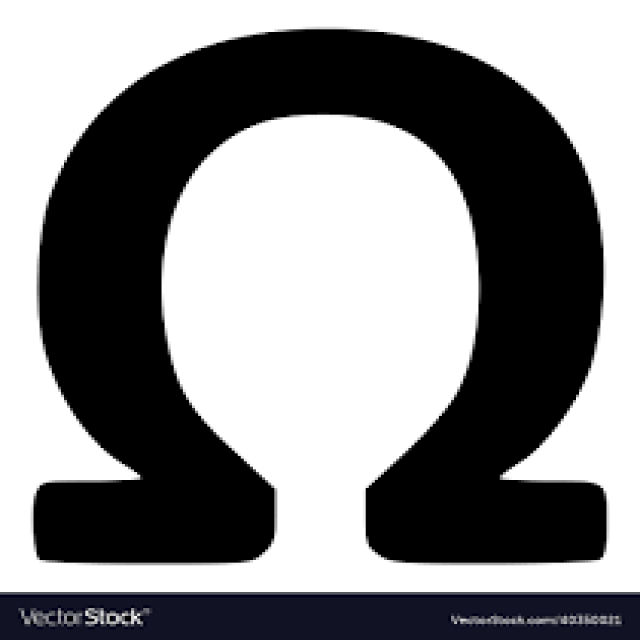ohms: (13, 3, 623, 574)
